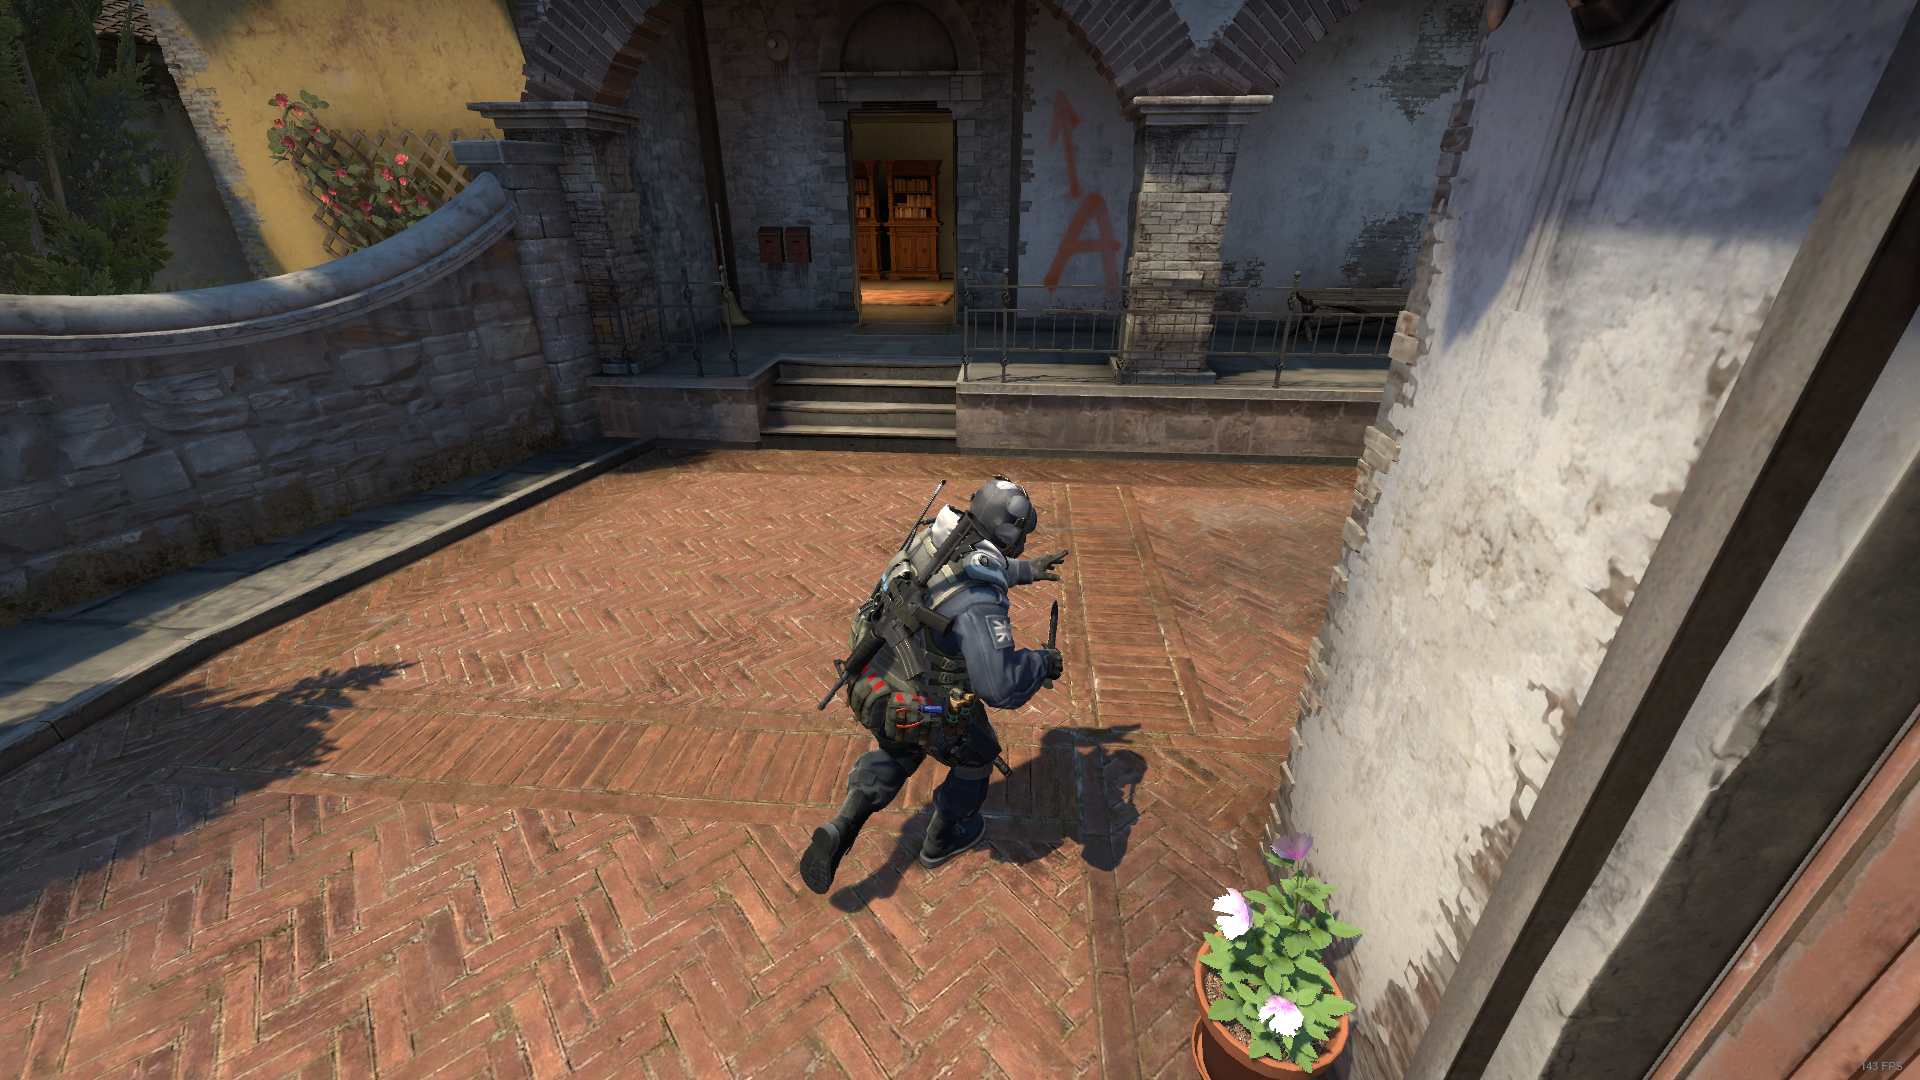ct: (800, 477, 1068, 899)
